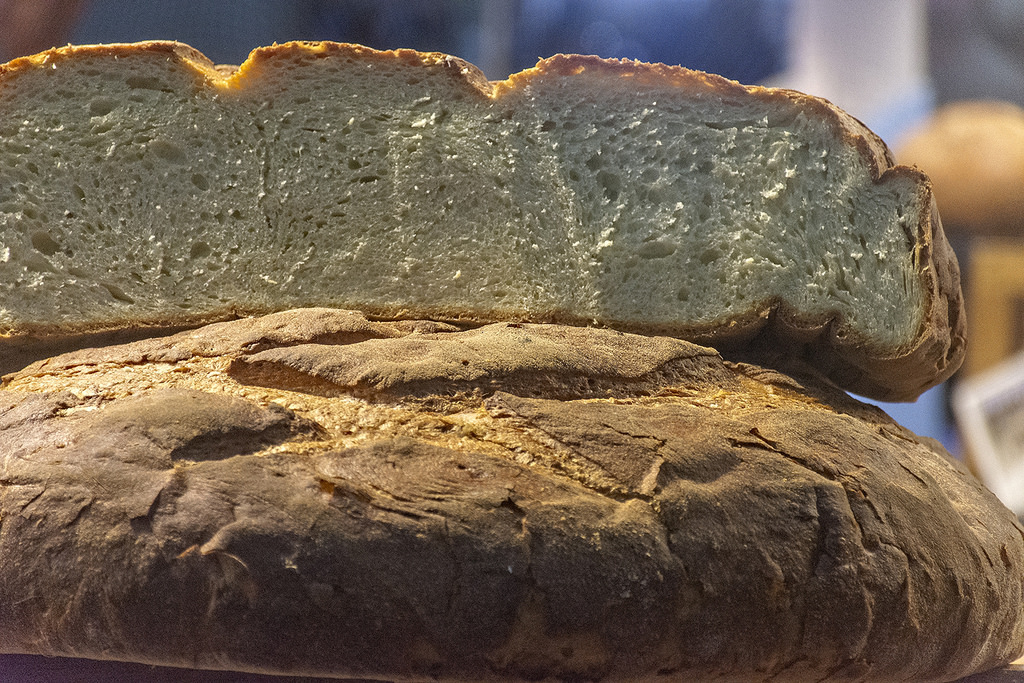slice of bread: (1, 312, 1024, 667), (7, 40, 993, 393)
